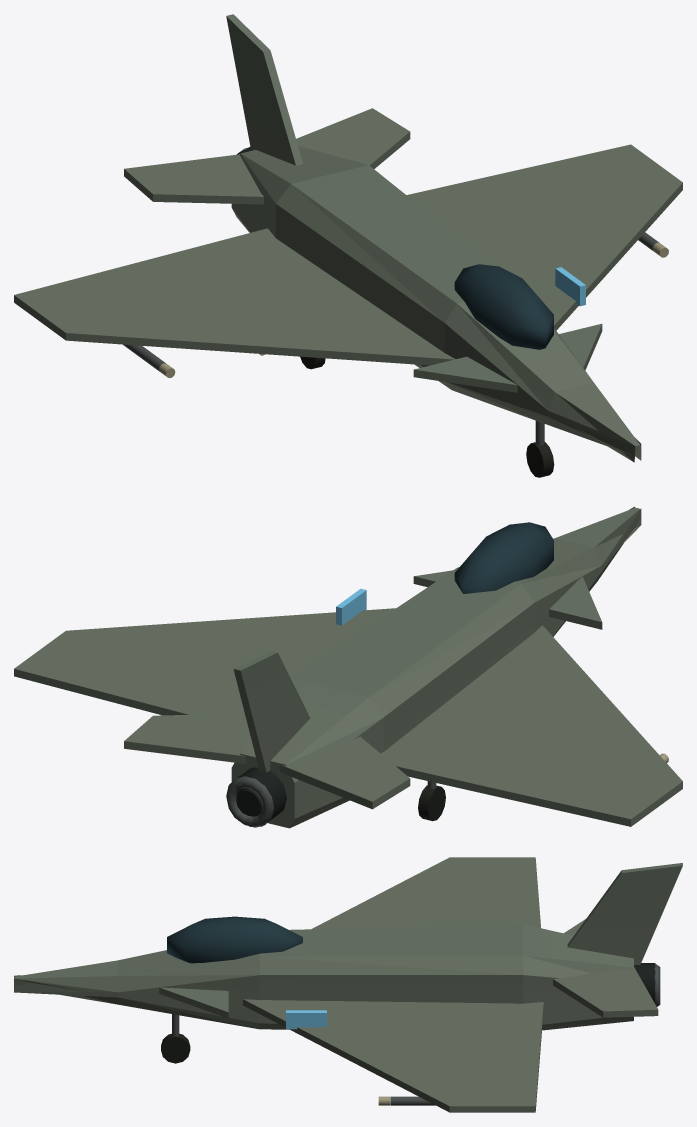
File: fighter-lod.glb
3 renders of one model, top to bottom at view 1: azimuth 30°, elevation 25°; view 2: azimuth 150°, elevation 25°; view 3: azimuth 270°, elevation 25°, orthographic. The views are drawn at different scales.
Visible parts, largest first — view 1: equipment (×2), marking; view 2: equipment (×2), marking; view 3: equipment (×2), marking.
Part boxes in pixels (left/top/right/bottom): equipment (×2): left=14, top=14, right=682, bottom=477; marking: left=555, top=267, right=585, bottom=306; equipment (×2): left=14, top=506, right=682, bottom=828; marking: left=336, top=588, right=366, bottom=625; equipment (×2): left=14, top=857, right=682, bottom=1112; marking: left=286, top=1010, right=326, bottom=1029.
Bounding box in the file's own units: 7.2 × 2.64 × 8.17.
